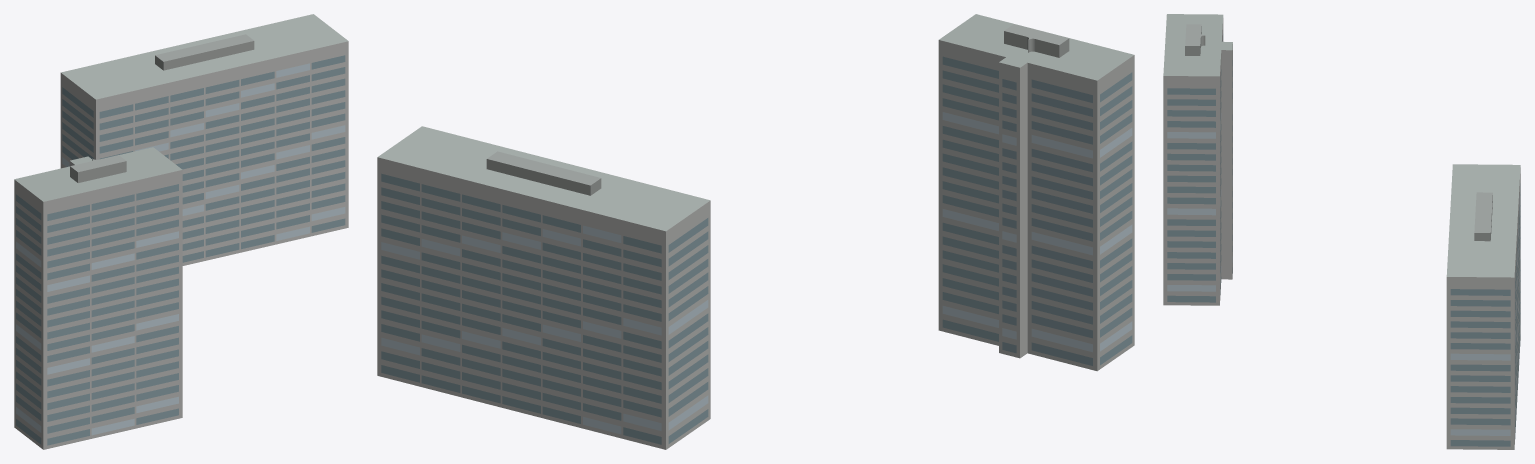
File: apt-a10022428.glb
3 renders of one model, left to right at view 1: azimuth 30°, elevation 25°; view 2: azimuth 150°, elevation 25°; view 3: azimuth 270°, elevation 25°, orthographic. The views are drawn at different scales.
Parts seen in each view (by area): view 1: apt-a10022428; view 2: apt-a10022428; view 3: apt-a10022428.
Part boxes in pixels (box(x1,y1,x2,y2)): apt-a10022428: box(14, 14, 348, 449); apt-a10022428: box(377, 14, 1134, 449); apt-a10022428: box(1163, 14, 1520, 449).
Size of the model in its own units: 106 by 57 by 77.15.
